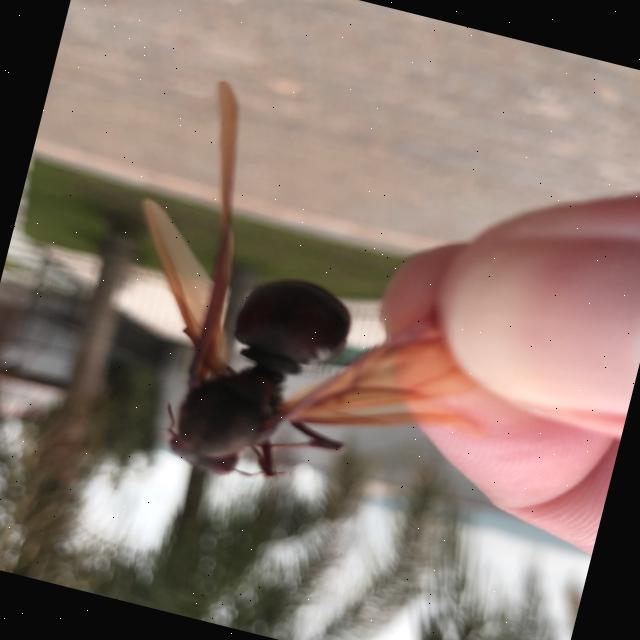Dead-Female-Alate: (83, 69, 563, 538)
